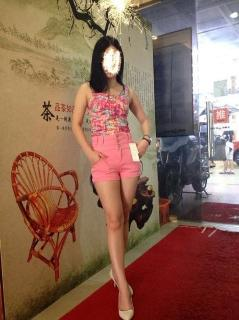shorts: (91, 132, 142, 182)
sling dress: (87, 82, 131, 138)
